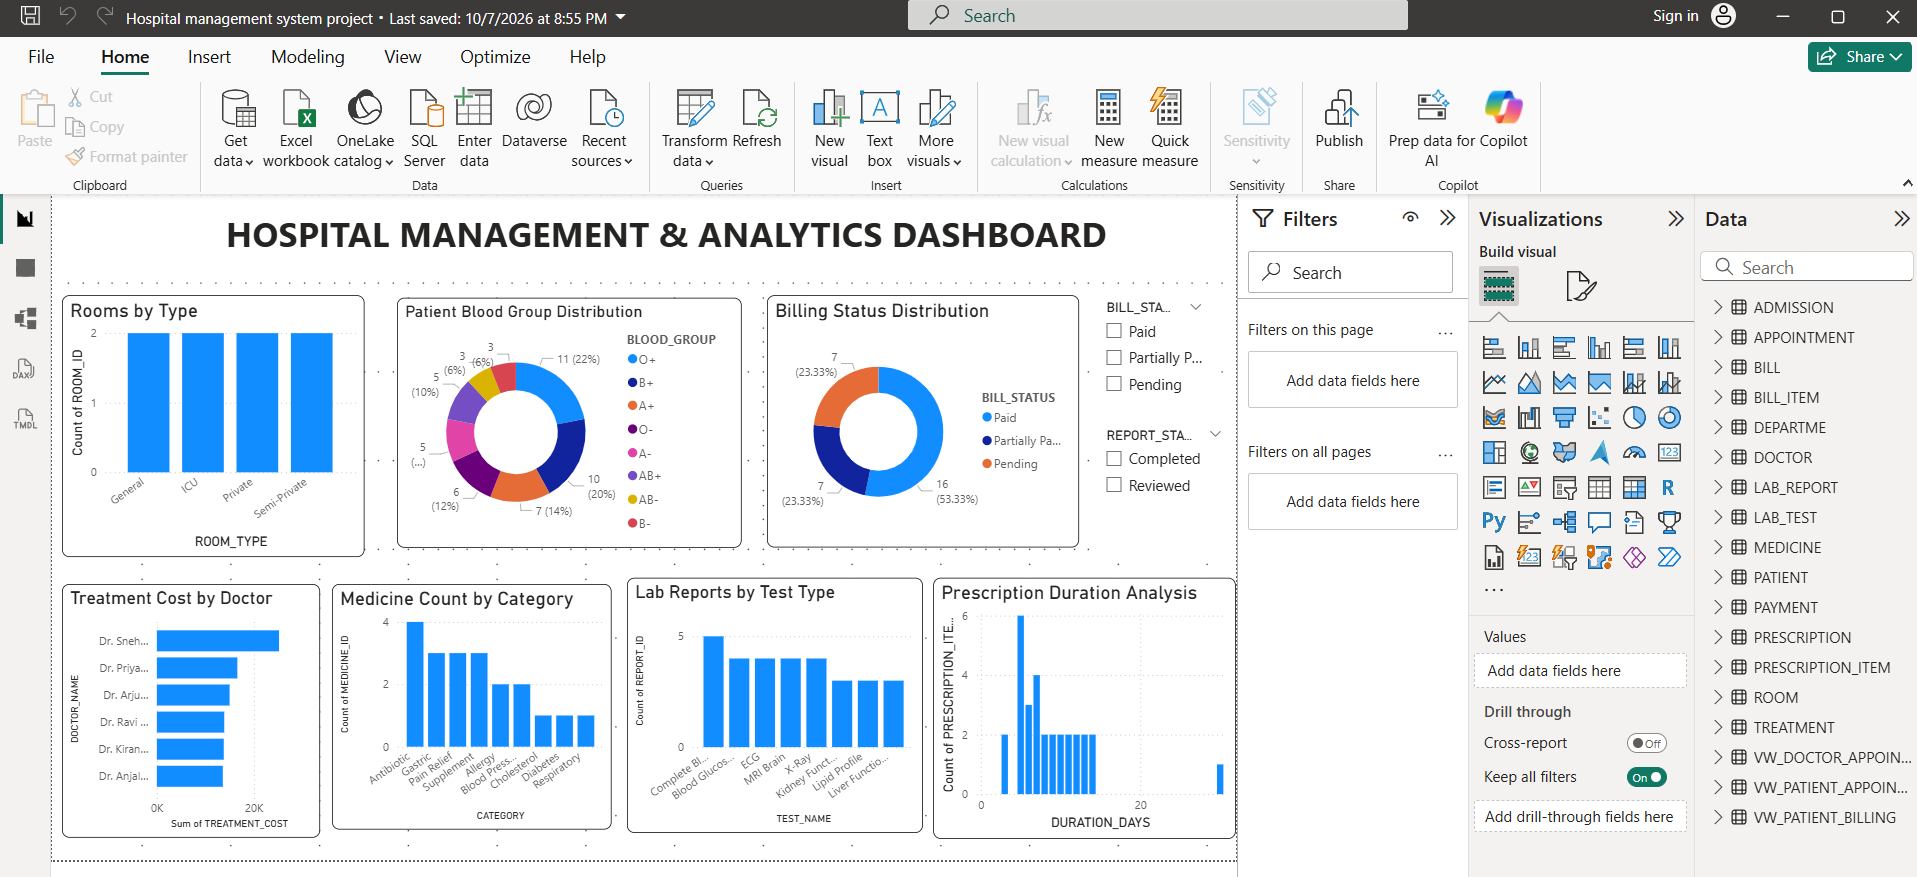

Layout of this report page (visuals, bound fields, positions):
{"tool":"powerbi","page":{"name":"Page 3","canvas":[1280,720],"ordinal":2},"visuals":[{"type":"clusteredColumnChart","title":"Rooms by Type","fields":{"Category":["ROOM.ROOM_TYPE"],"Y":["CountNonNull(ROOM.ROOM_ID)"]},"box":[10.2,109.6,327.4,283.5],"z":0},{"type":"donutChart","title":"Patient Blood Group Distribution","fields":{"Category":["PATIENT.BLOOD_GROUP"],"Y":["CountNonNull(PATIENT.PATIENT_ID)"]},"box":[372.7,112.5,372.7,270.4],"z":1000},{"type":"donutChart","title":"Billing Status Distribution","fields":{"Category":["BILL.BILL_STATUS"],"Y":["CountNonNull(BILL.BILL_ID)"]},"box":[773.6,110.1,337.4,272.5],"z":2000},{"type":"clusteredBarChart","title":"Treatment Cost by Doctor","fields":{"Category":["DOCTOR.DOCTOR_NAME"],"Y":["Sum(TREATMENT.TREATMENT_COST)"]},"box":[10.2,422.4,279.2,274.8],"z":3000},{"type":"clusteredColumnChart","title":"Medicine Count by Category","fields":{"Category":["MEDICINE.CATEGORY"],"Y":["CountNonNull(MEDICINE.MEDICINE_ID)"]},"box":[302.5,422.4,302.5,266],"z":4000},{"type":"clusteredColumnChart","title":"Lab Reports by Test Type","fields":{"Category":["LAB_TEST.TEST_NAME"],"Y":["CountNonNull(LAB_REPORT.REPORT_ID)"]},"box":[622.6,415.1,320.1,276.2],"z":5000},{"type":"clusteredColumnChart","title":"Prescription Duration Analysis","fields":{"Y":["CountNonNull(PRESCRIPTION_ITEM.PRESCRIPTION_ITEM_ID)"],"Category":["PRESCRIPTION_ITEM.DURATION_DAYS"]},"box":[952.9,415.1,327.4,282.1],"z":6000},{"type":"textbox","box":[48.2,11.7,1232.1,76],"z":7000},{"type":"slicer","fields":{"Values":["BILL.BILL_STATUS"]},"box":[1128,110.1,128.5,136.9],"z":8000},{"type":"slicer","fields":{"Values":["LAB_REPORT.REPORT_STATUS"]},"box":[1128,247,150,150],"z":9000}]}

Visuals, with their boxes on the page's 1280x720 design canvas (x1, y1, x2, y2). These are canvas units, not pixel positions in the 1917x877 screenshot, which may show the page scaled, cropped or inside an application window:
"Rooms by Type" clusteredColumnChart: 10:110:338:393
"Patient Blood Group Distribution" donutChart: 373:112:745:383
"Billing Status Distribution" donutChart: 774:110:1111:383
"Treatment Cost by Doctor" clusteredBarChart: 10:422:289:697
"Medicine Count by Category" clusteredColumnChart: 302:422:605:688
"Lab Reports by Test Type" clusteredColumnChart: 623:415:943:691
"Prescription Duration Analysis" clusteredColumnChart: 953:415:1280:697
textbox: 48:12:1280:88
slicer - BILL.BILL_STATUS: 1128:110:1256:247
slicer - LAB_REPORT.REPORT_STATUS: 1128:247:1278:397
